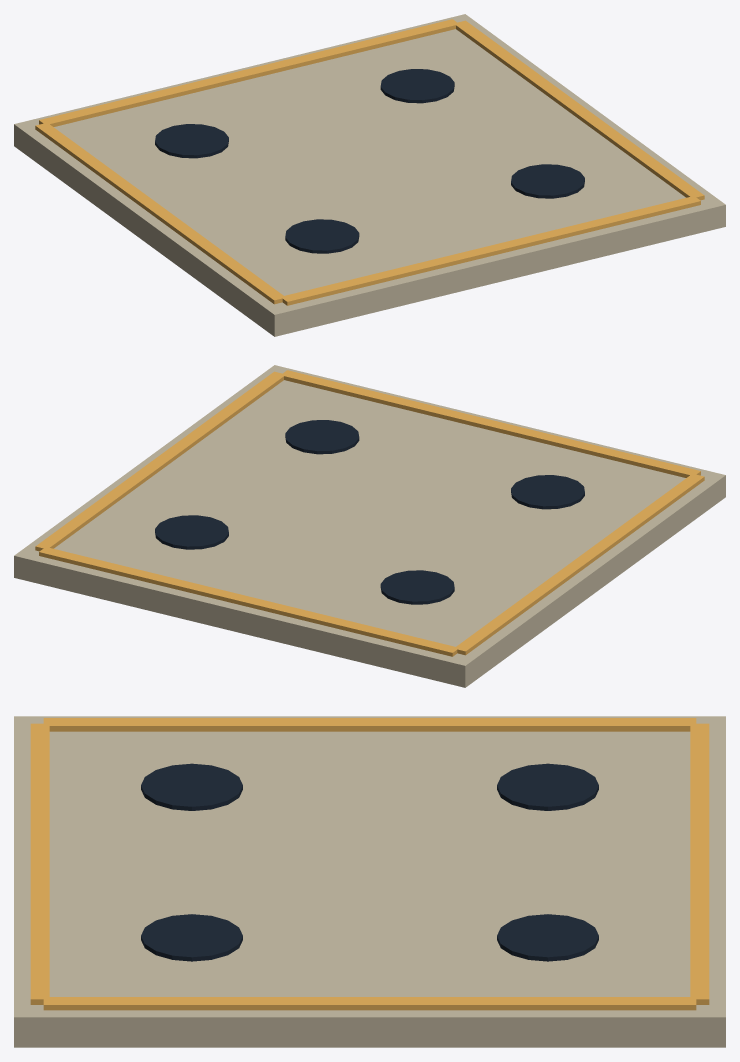
File: space_die_cream_face_4.glb
3 renders of one model, top to bottom at view 1: azimuth 30°, elevation 25°; view 2: azimuth 150°, elevation 25°; view 3: azimuth 270°, elevation 25°, orthographic. The views are drawn at different scales.
Parts seen in each view (by area): view 1: FixedDetails, BrassTrim; view 2: FixedDetails, BrassTrim; view 3: FixedDetails, BrassTrim.
Part boxes in pixels (box(x1,y1,x2,y2)): FixedDetails: box(14, 14, 725, 336); BrassTrim: box(35, 19, 704, 305); FixedDetails: box(14, 365, 725, 687); BrassTrim: box(35, 370, 704, 656); FixedDetails: box(14, 716, 725, 1047); BrassTrim: box(30, 718, 709, 1010).
Bounding box in the file's own units: 0.6 × 0.034 × 0.6.
